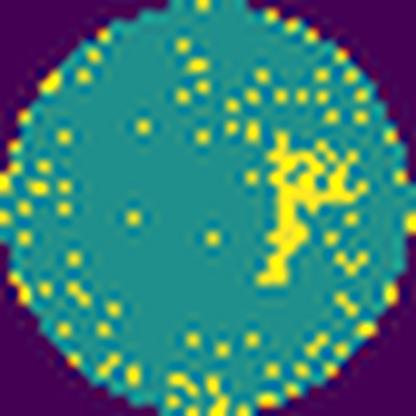Edge-Loc: (257, 133, 360, 287)
